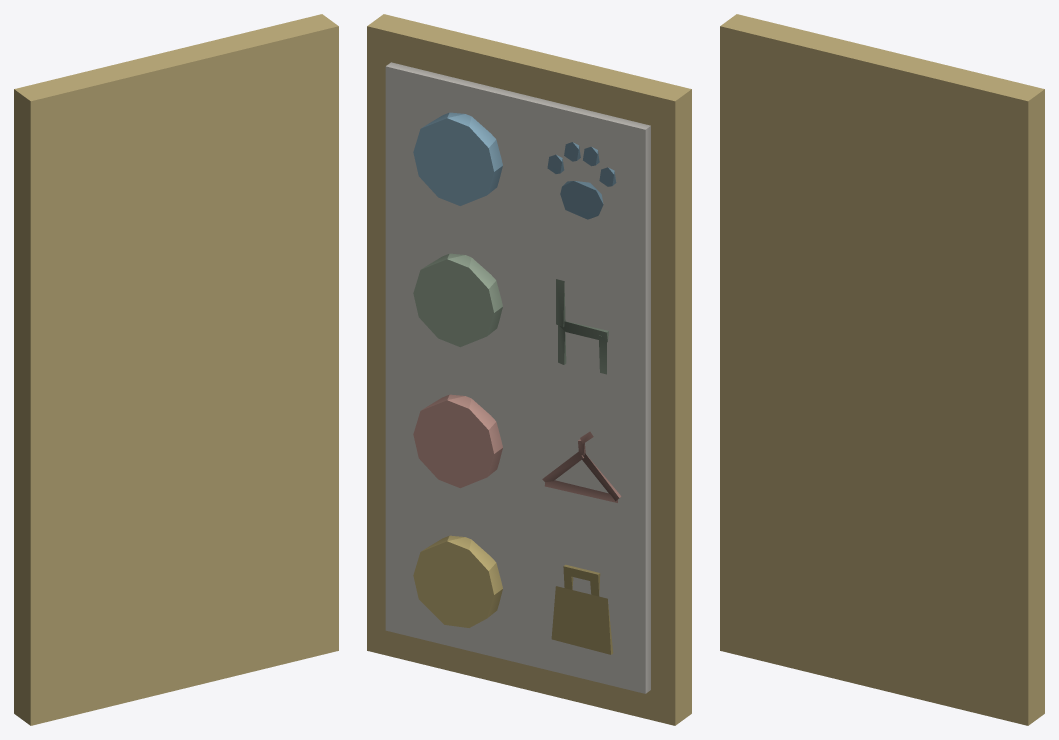
File: mall_lift_panel_low.glb
The picture shows the model from 3 angles, left to right: view 1: azimuth 30°, elevation 25°; view 2: azimuth 150°, elevation 25°; view 3: azimuth 330°, elevation 25°; orthographic projection.
Visible parts, largest first — view 1: mall.lift_panel; view 2: mall.lift_panel, btn3, btn2, btn4, btn1; view 3: mall.lift_panel.
Boxes of the visible parts, bbox=[...] form: mall.lift_panel: bbox=[14, 14, 338, 725]; mall.lift_panel: bbox=[367, 14, 691, 725]; btn3: bbox=[413, 253, 502, 347]; btn2: bbox=[413, 394, 502, 488]; btn4: bbox=[413, 112, 502, 205]; btn1: bbox=[413, 535, 502, 627]; mall.lift_panel: bbox=[720, 14, 1044, 725].
Bounding box in the file's own units: 0.32 × 0.62 × 0.056.
